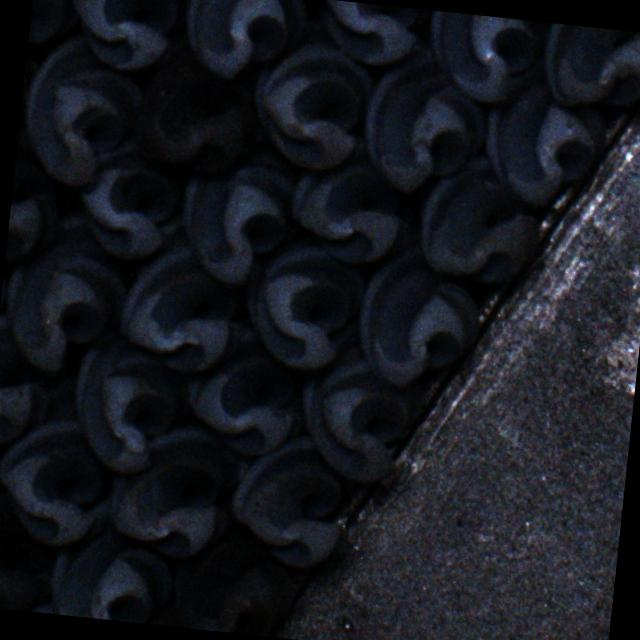tool_b: (0, 202, 131, 379), (114, 206, 244, 376), (246, 12, 380, 175), (296, 314, 420, 485), (18, 29, 150, 188), (352, 238, 488, 392), (237, 219, 370, 375), (104, 413, 240, 564), (356, 45, 489, 198), (175, 140, 301, 288), (414, 147, 547, 287), (226, 426, 352, 570), (67, 322, 186, 474), (181, 317, 307, 459), (285, 130, 411, 267), (478, 78, 608, 210), (0, 407, 118, 550), (134, 56, 258, 183), (167, 524, 300, 638), (46, 524, 176, 626), (74, 146, 184, 260), (422, 10, 546, 106), (178, 0, 306, 87), (0, 313, 78, 450), (537, 22, 640, 115), (63, 0, 178, 75), (317, 0, 425, 70), (5, 156, 70, 266), (0, 506, 53, 612)
